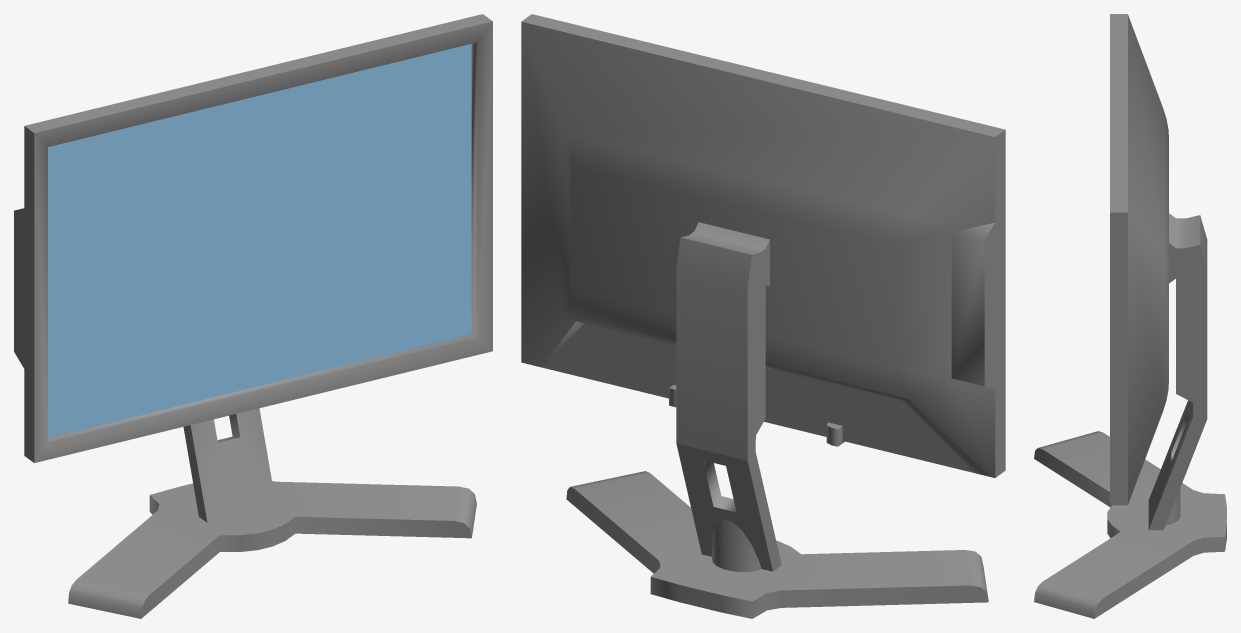
Rendered from Monitor.FBX.
3 views of the same model, side by side, from view 1: azimuth 30°, elevation 25°; view 2: azimuth 150°, elevation 25°; view 3: azimuth 270°, elevation 25° (orthographic). The views are drawn at different scales.
Visible parts, largest first — view 1: Monitor; view 2: Monitor; view 3: Monitor.
Part boxes in pixels (left/top/right/bottom): Monitor: left=14, top=14, right=492, bottom=618; Monitor: left=521, top=14, right=1005, bottom=618; Monitor: left=1034, top=14, right=1226, bottom=618.
Size of what is drawn, in the model's own units: 52.8 by 51.72 by 21.68.
